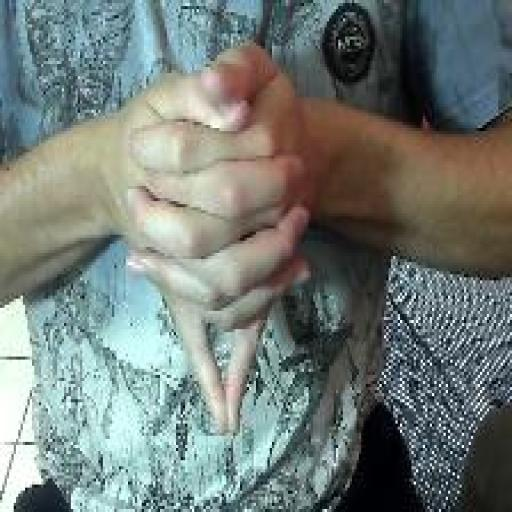Tatsu -dragon-: (119, 32, 318, 443)
